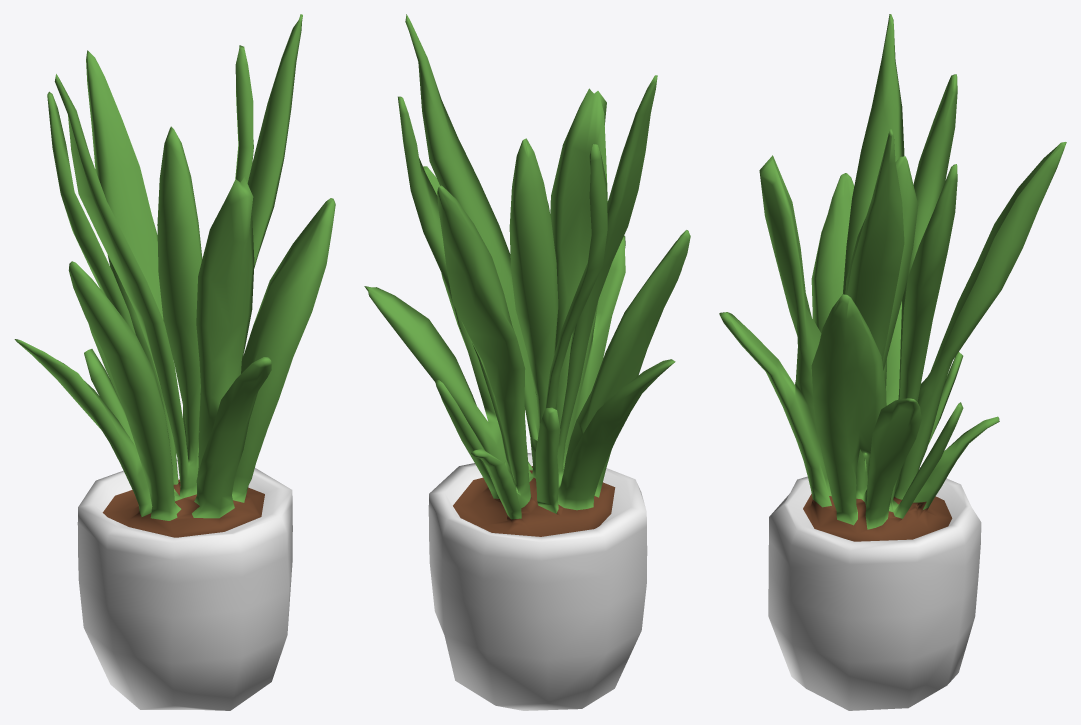
File: Planta2.fbx
3 views of the same model, side by side, from view 1: azimuth 30°, elevation 25°; view 2: azimuth 150°, elevation 25°; view 3: azimuth 270°, elevation 25° (orthographic). The views are drawn at different scales.
Visible parts, largest first — view 1: Planta2; view 2: Planta2; view 3: Planta2.
Part boxes in pixels (box(x1,y1,x2,y2)): Planta2: box(14, 14, 335, 710); Planta2: box(364, 14, 690, 710); Planta2: box(719, 14, 1066, 710).
Size of the model in its own units: 55.38 by 113 by 56.75.
